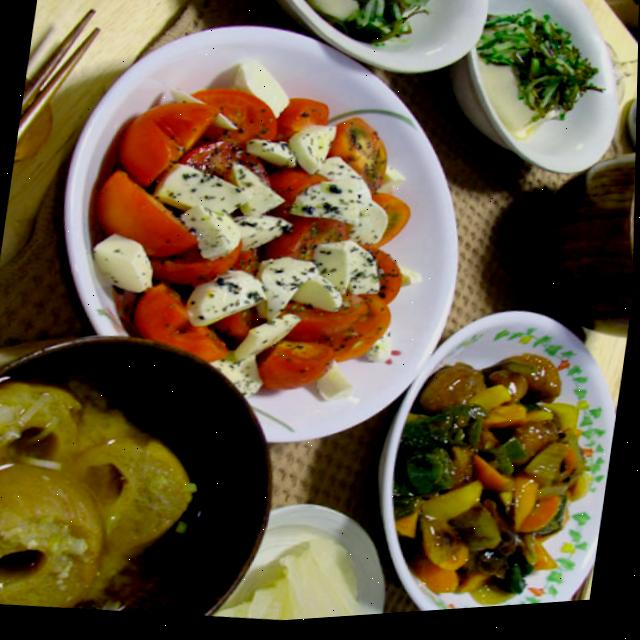汤锅炖物: (0, 310, 308, 637), (601, 152, 637, 342)
猪肉菜式: (376, 336, 615, 620)
豆腐料理: (438, 0, 632, 193), (246, 0, 492, 100)
